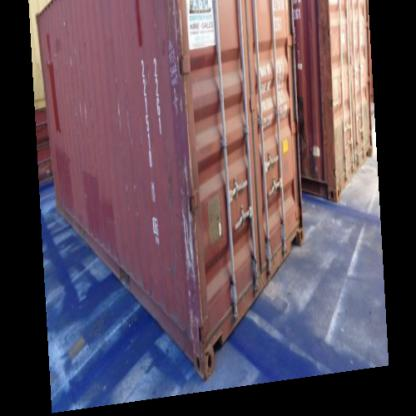Damage: (176, 205, 204, 287), (172, 158, 202, 200), (110, 94, 138, 134), (166, 4, 186, 48), (185, 294, 203, 332), (71, 103, 89, 131), (66, 46, 88, 67)
